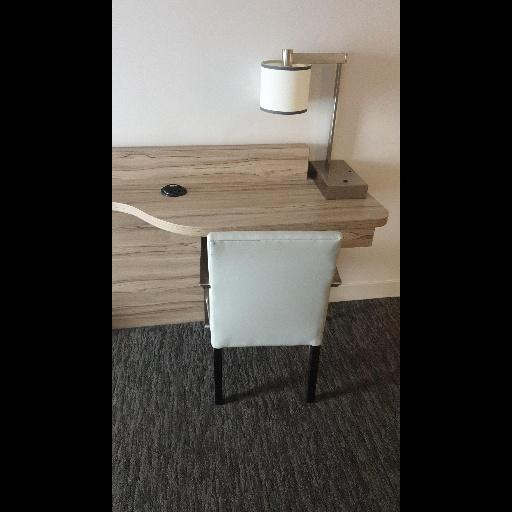chair: (198, 234, 342, 409)
lamp: (258, 46, 368, 205)
organized table: (111, 142, 388, 232)
